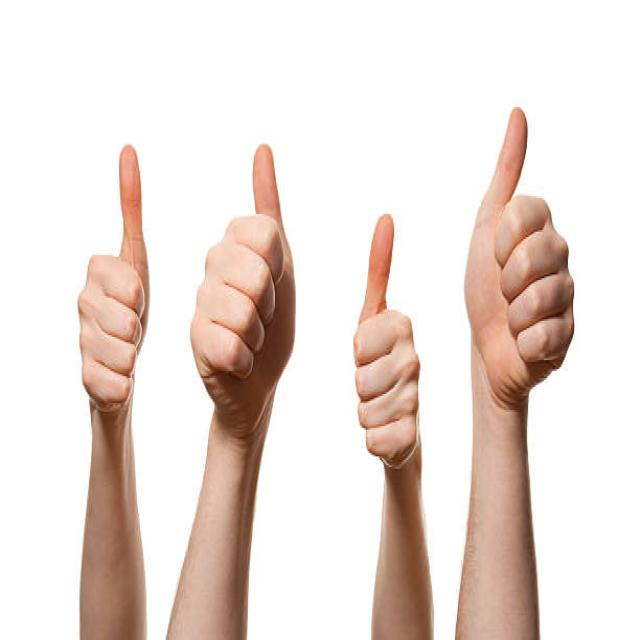hand thumb up: (186, 140, 318, 438), (465, 106, 576, 406), (348, 191, 441, 473), (73, 138, 168, 409)
